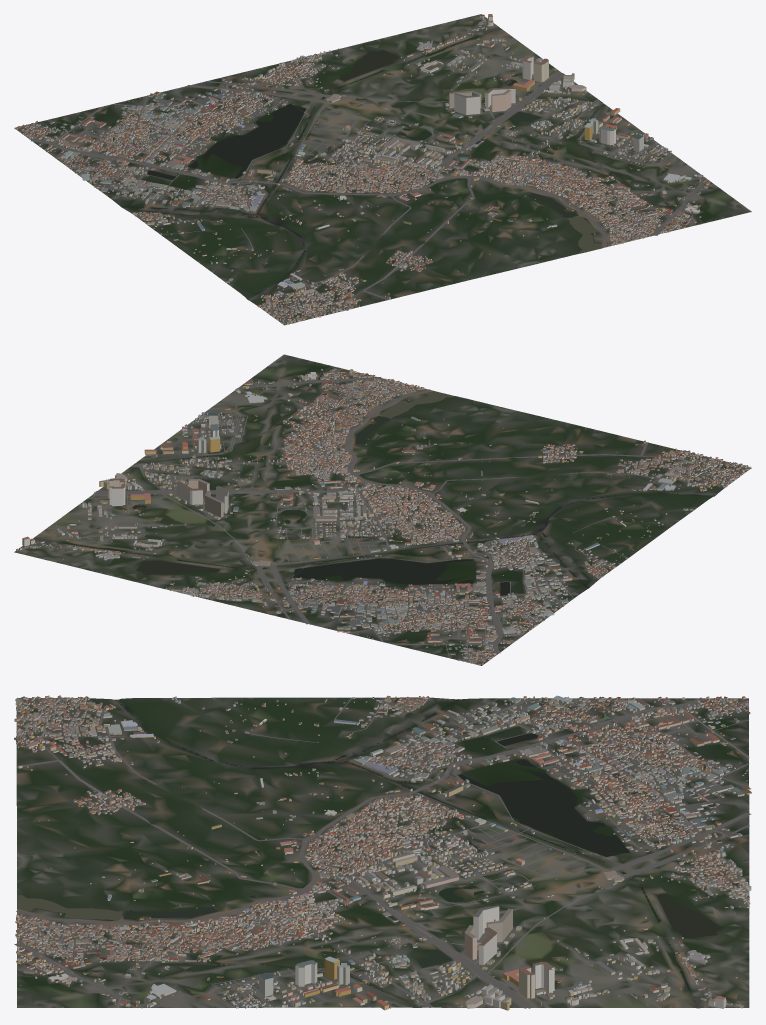
3 views of the same model, one above another, from view 1: azimuth 30°, elevation 25°; view 2: azimuth 150°, elevation 25°; view 3: azimuth 270°, elevation 25° (orthographic). The views are drawn at different scales.
Parts seen in each view (by area): view 1: ground, buildings, roads, water; view 2: ground, buildings, roads, water; view 3: ground, buildings, roads, water.
Part boxes in pixels (<box>): ground: <box>14,14,751,325</box>; buildings: <box>15,14,735,324</box>; roads: <box>17,39,714,318</box>; water: <box>83,31,700,297</box>; ground: <box>14,354,751,665</box>; buildings: <box>16,363,750,664</box>; roads: <box>54,377,738,662</box>; water: <box>44,368,709,626</box>; ground: <box>16,697,749,1008</box>; buildings: <box>14,695,751,1010</box>; roads: <box>14,697,751,1008</box>; water: <box>17,699,722,1005</box>.
Bounding box in the file's own units: 2836 × 105 × 2825.
